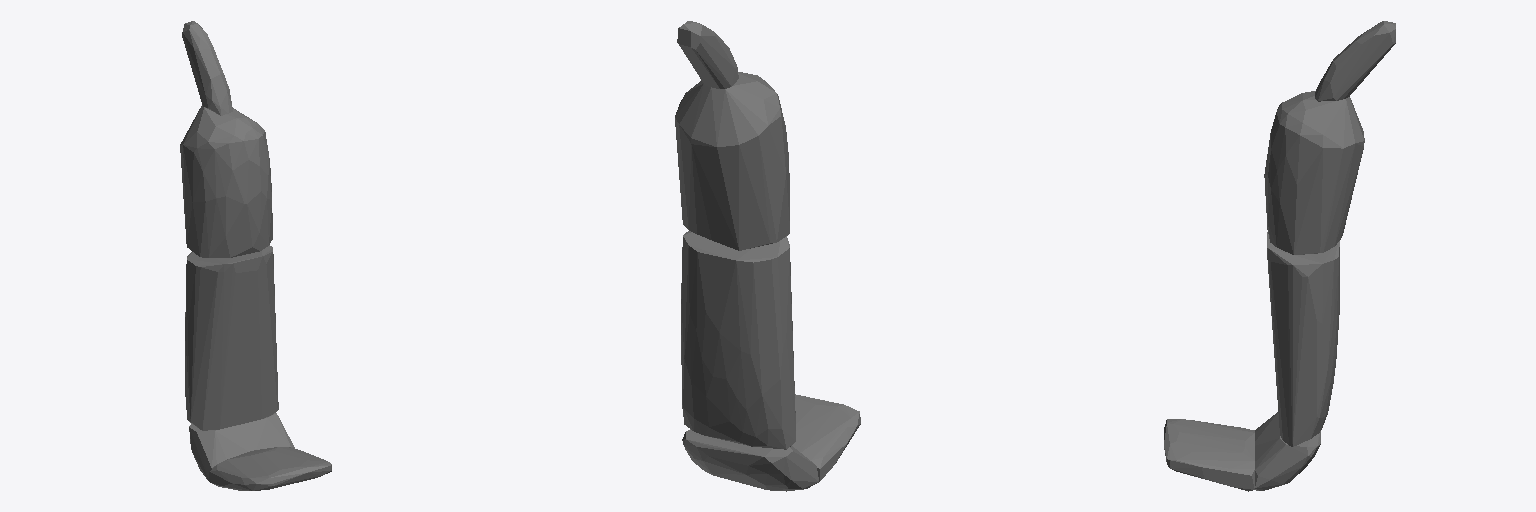
robot.urdf — toothpaste_tube_003:
<?xml version="1.0" ?>
<robot name="toothpaste_tube_003">
  <material name="color">
    <color rgba=".5 .5 .5 1"/>
  </material>

  <link name="base_link">
    <contact>
      <lateral_friction value="1.0"/>
      <rolling_friction value="0.001"/>
      <spinning_friction value="0.001"/>
      <inertia_scaling value="1.0"/>
    </contact>
    <inertial>
      <origin rpy="0 0 0" xyz="4.75613e-06 0.00684692 -0.0188161"/>
       <mass value="0.1"/>
       <inertia ixx="1" ixy="0" ixz="0" iyy="1" iyz="0" izz="1"/>
    </inertial>

    <visual>
      <origin rpy="0 0 0" xyz="0 0 0"/>
      <geometry>
        <mesh filename="toothpaste_tube_003_vhacd_0_of_5.obj" scale="1 1 1"/>
      </geometry>
      <material name="color"/>
    </visual>
    <visual>
      <origin rpy="0 0 0" xyz="0 0 0"/>
      <geometry>
        <mesh filename="toothpaste_tube_003_vhacd_1_of_5.obj" scale="1 1 1"/>
      </geometry>
      <material name="color"/>
    </visual>
    <visual>
      <origin rpy="0 0 0" xyz="0 0 0"/>
      <geometry>
        <mesh filename="toothpaste_tube_003_vhacd_2_of_5.obj" scale="1 1 1"/>
      </geometry>
      <material name="color"/>
    </visual>
    <visual>
      <origin rpy="0 0 0" xyz="0 0 0"/>
      <geometry>
        <mesh filename="toothpaste_tube_003_vhacd_3_of_5.obj" scale="1 1 1"/>
      </geometry>
      <material name="color"/>
    </visual>
    <visual>
      <origin rpy="0 0 0" xyz="0 0 0"/>
      <geometry>
        <mesh filename="toothpaste_tube_003_vhacd_4_of_5.obj" scale="1 1 1"/>
      </geometry>
      <material name="color"/>
    </visual>

    <collision>
      <origin rpy="0 0 0" xyz="0 0 0"/>
      <geometry>
        <mesh filename="toothpaste_tube_003_vhacd_0_of_5.obj" scale="1 1 1"/>
      </geometry>
    </collision>
    <collision>
      <origin rpy="0 0 0" xyz="0 0 0"/>
      <geometry>
        <mesh filename="toothpaste_tube_003_vhacd_1_of_5.obj" scale="1 1 1"/>
      </geometry>
    </collision>
    <collision>
      <origin rpy="0 0 0" xyz="0 0 0"/>
      <geometry>
        <mesh filename="toothpaste_tube_003_vhacd_2_of_5.obj" scale="1 1 1"/>
      </geometry>
    </collision>
    <collision>
      <origin rpy="0 0 0" xyz="0 0 0"/>
      <geometry>
        <mesh filename="toothpaste_tube_003_vhacd_3_of_5.obj" scale="1 1 1"/>
      </geometry>
    </collision>
    <collision>
      <origin rpy="0 0 0" xyz="0 0 0"/>
      <geometry>
        <mesh filename="toothpaste_tube_003_vhacd_4_of_5.obj" scale="1 1 1"/>
      </geometry>
    </collision>

  </link>
</robot>

--- Render facts (derived) ---
The picture shows the robot from 3 angles, left to right: view 1: azimuth 30°, elevation 25°; view 2: azimuth 150°, elevation 25°; view 3: azimuth 270°, elevation 25°; orthographic projection.
Robot: toothpaste_tube_003 — 1 links, 0 joints (none); root link base_link; default pose: all joints at 0.
Visible links, largest first — view 1: base_link; view 2: base_link; view 3: base_link.
Boxes of the visible links, x1=… form: base_link: x1=180, y1=21, x2=331, y2=490; base_link: x1=675, y1=21, x2=860, y2=491; base_link: x1=1164, y1=21, x2=1395, y2=491.
Bounding box of the posed robot: 0.0406 × 0.0834 × 0.1793 m (x, y, z).
5 mesh visuals loaded from 5 distinct referenced files (5 OBJ).